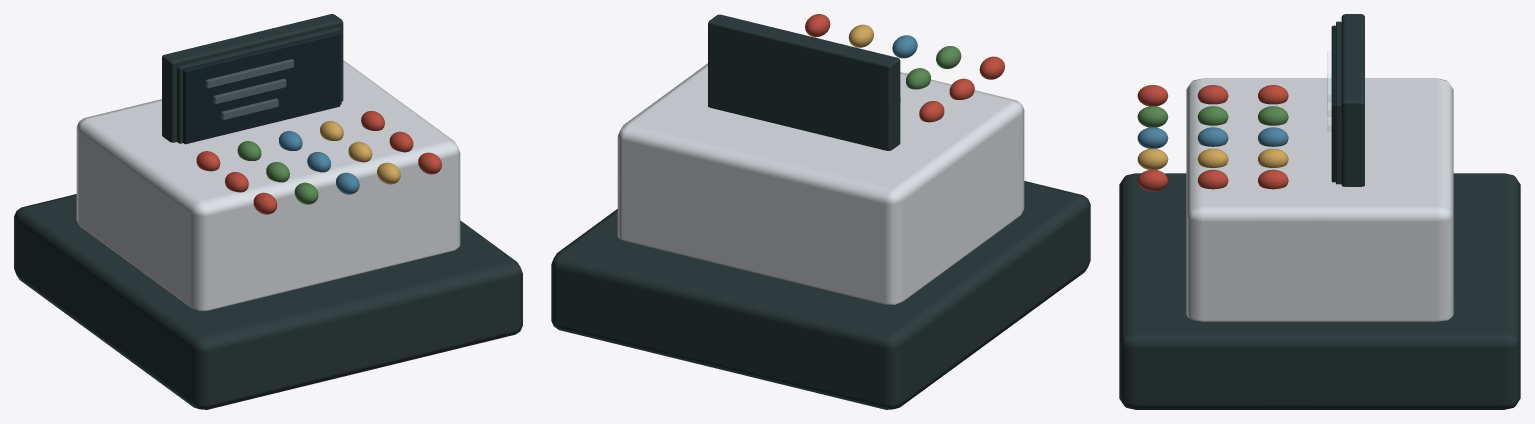
File: wp-caisse-enregistreuse.glb
3 views of the same model, side by side, from view 1: azimuth 30°, elevation 25°; view 2: azimuth 150°, elevation 25°; view 3: azimuth 270°, elevation 25° (orthographic). The views are drawn at different scales.
Visible parts, largest first — view 1: wp-caisse-enregistreuse; view 2: wp-caisse-enregistreuse; view 3: wp-caisse-enregistreuse.
Part boxes in pixels (x1=…): wp-caisse-enregistreuse: x1=14, y1=14, x2=522, y2=409; wp-caisse-enregistreuse: x1=551, y1=14, x2=1090, y2=409; wp-caisse-enregistreuse: x1=1119, y1=14, x2=1520, y2=409.
Size of the model in its own units: 0.4 by 0.3 by 0.4.
